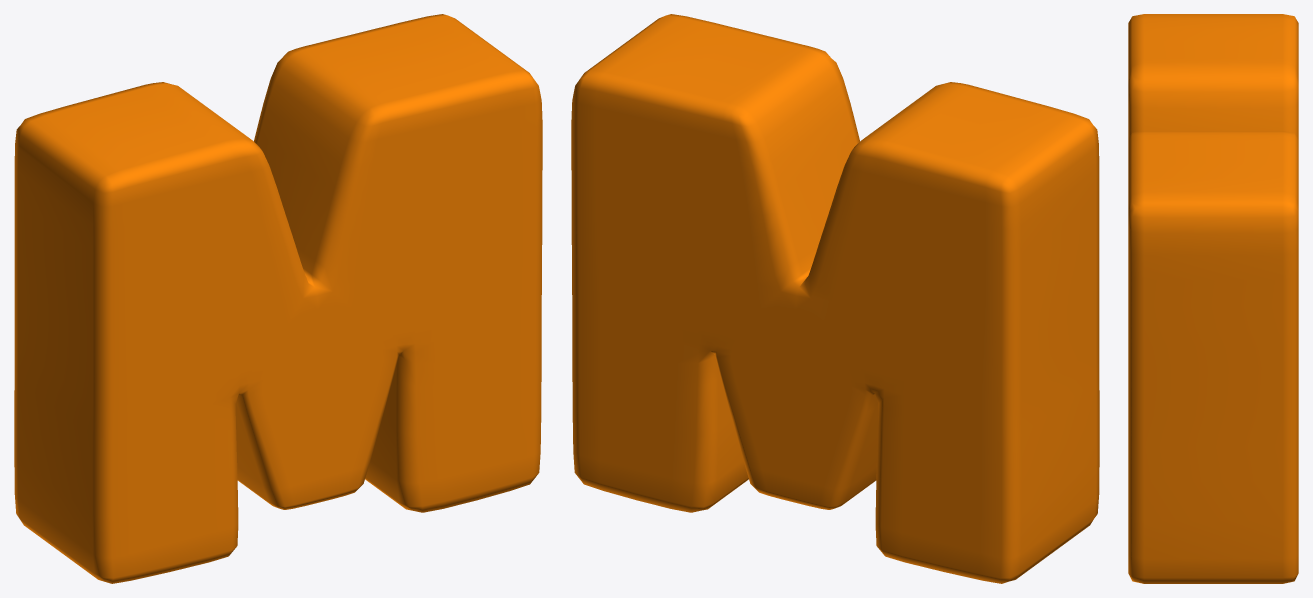
3 views of the same model, side by side, from view 1: azimuth 30°, elevation 25°; view 2: azimuth 150°, elevation 25°; view 3: azimuth 270°, elevation 25° (orthographic). The views are drawn at different scales.
Visible parts, largest first — view 1: LETTER_M; view 2: LETTER_M; view 3: LETTER_M.
Boxes of the visible parts, box(x1,y1,x2,y2) form: LETTER_M: box(14, 14, 542, 583); LETTER_M: box(571, 14, 1099, 583); LETTER_M: box(1128, 14, 1298, 583).
Bounding box in the file's own units: 1.12 × 1 × 0.3962.
